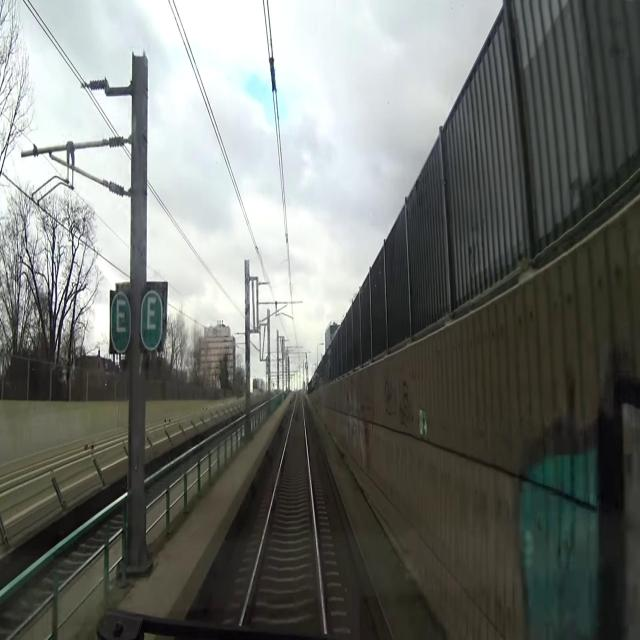rail-track: (244, 396, 320, 629)
